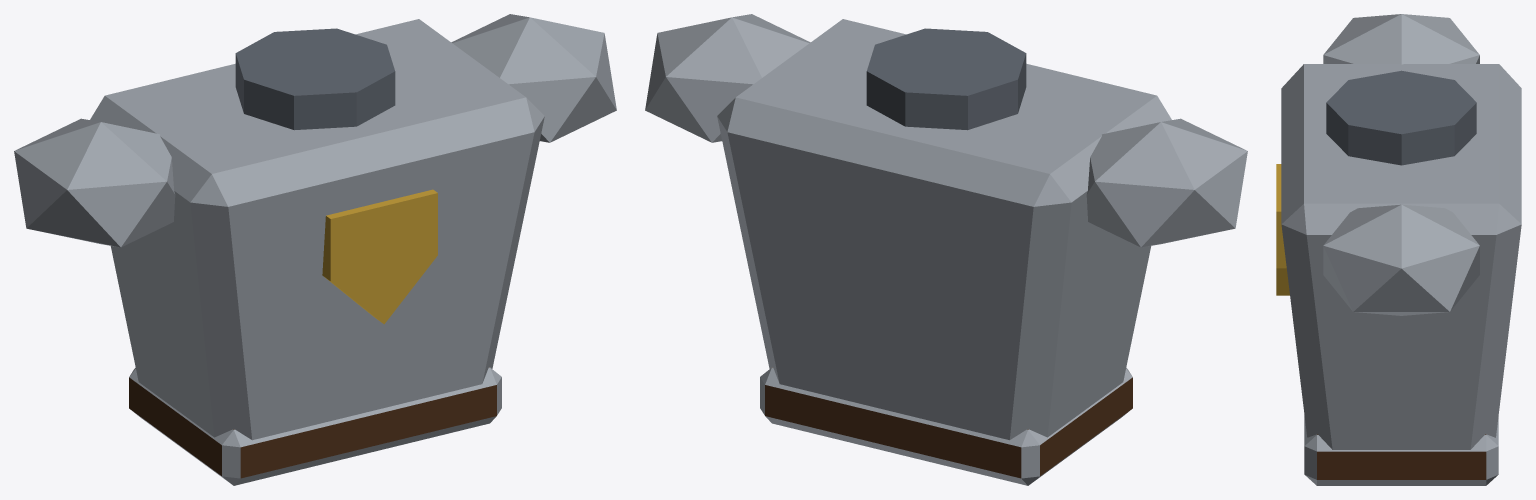
Rendered from knight_mail.glb.
3 renders of one model, left to right at view 1: azimuth 30°, elevation 25°; view 2: azimuth 150°, elevation 25°; view 3: azimuth 270°, elevation 25°, orthographic. The views are drawn at different scales.
Parts seen in each view (by area): view 1: knight_mail; view 2: knight_mail; view 3: knight_mail.
Boxes of the visible parts, x1=… form: knight_mail: x1=14, y1=14, x2=616, y2=485; knight_mail: x1=645, y1=14, x2=1247, y2=485; knight_mail: x1=1276, y1=14, x2=1521, y2=485.
Bounding box in the file's own units: 0.9704 × 0.575 × 0.3917.
